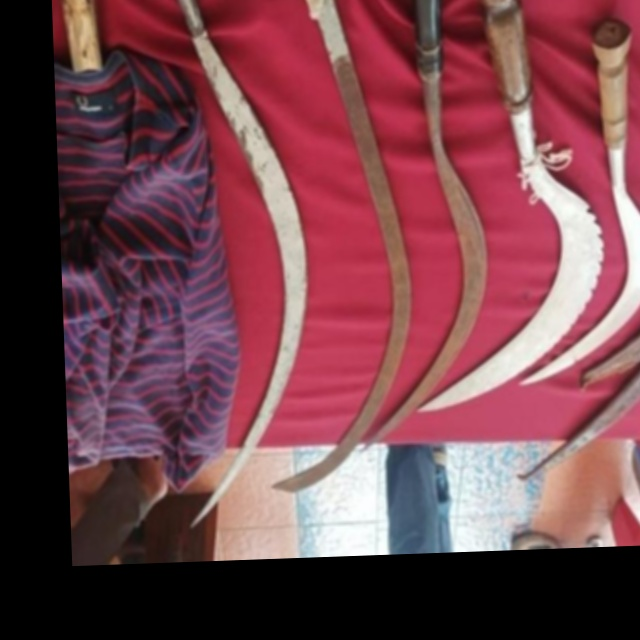Sharp-Object: (135, 0, 327, 533), (412, 0, 614, 442), (515, 8, 640, 401)
